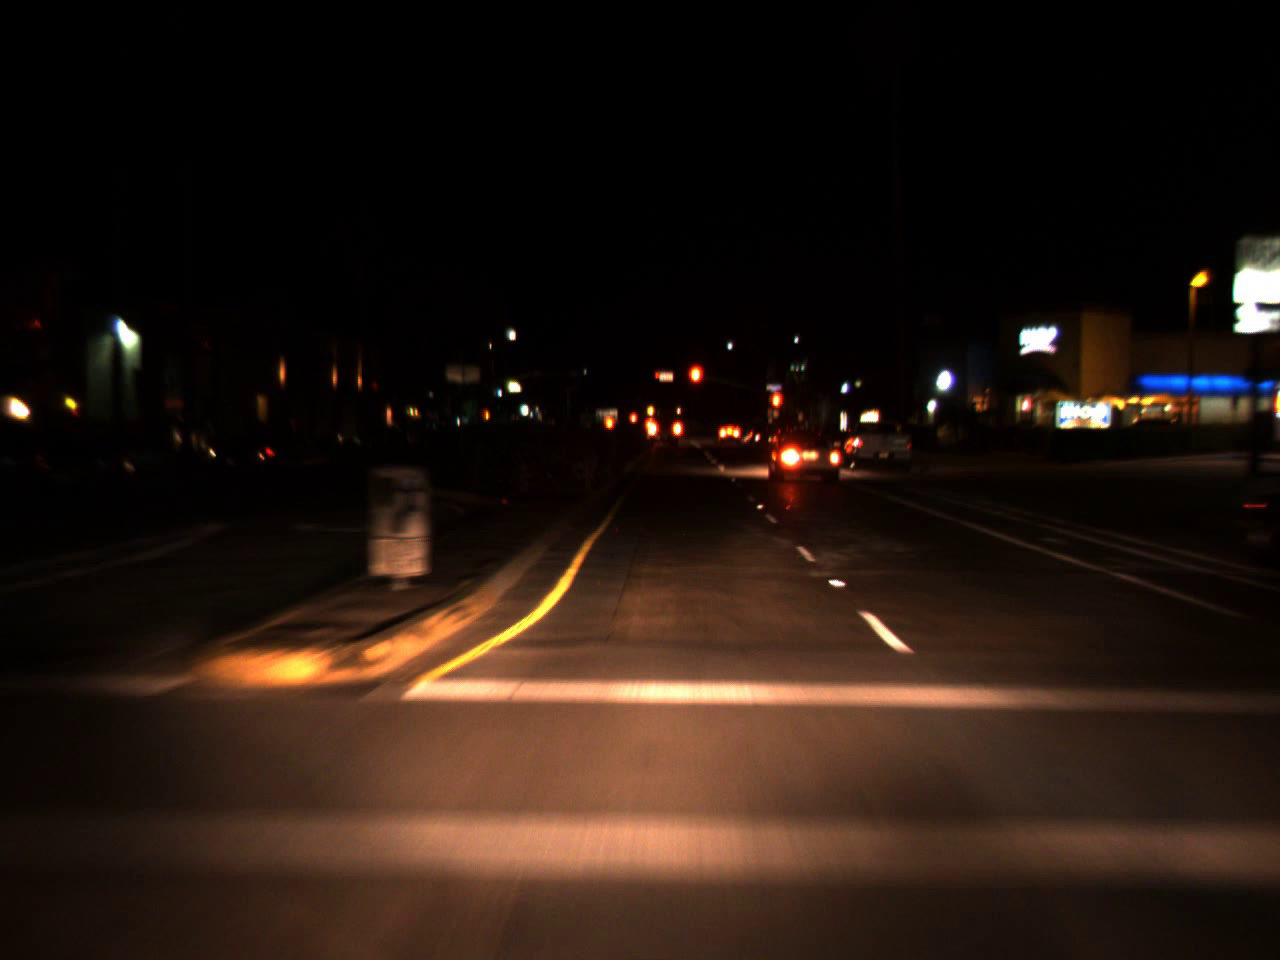stop: (685, 362, 703, 405), (769, 388, 784, 431), (655, 371, 661, 384)
